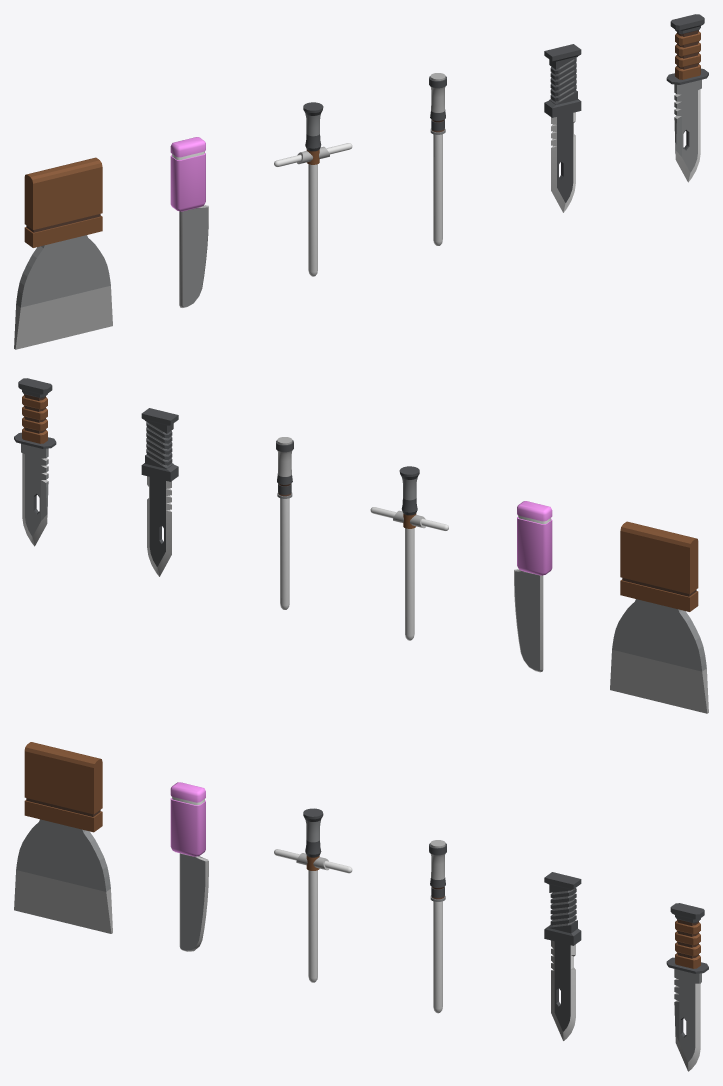
File: Cutter_skin_icon.fbx
3 renders of one model, top to bottom at view 1: azimuth 30°, elevation 25°; view 2: azimuth 150°, elevation 25°; view 3: azimuth 330°, elevation 25°, orthographic.
Parts seen in each view (by area): view 1: Cutter_skin_icon; view 2: Cutter_skin_icon; view 3: Cutter_skin_icon.
Part boxes in pixels (bbox=[...]): Cutter_skin_icon: bbox=[14, 14, 708, 349]; Cutter_skin_icon: bbox=[14, 378, 708, 713]; Cutter_skin_icon: bbox=[14, 742, 708, 1071].
Bounding box in the file's own units: 27.7 × 6.5 × 0.7657.
